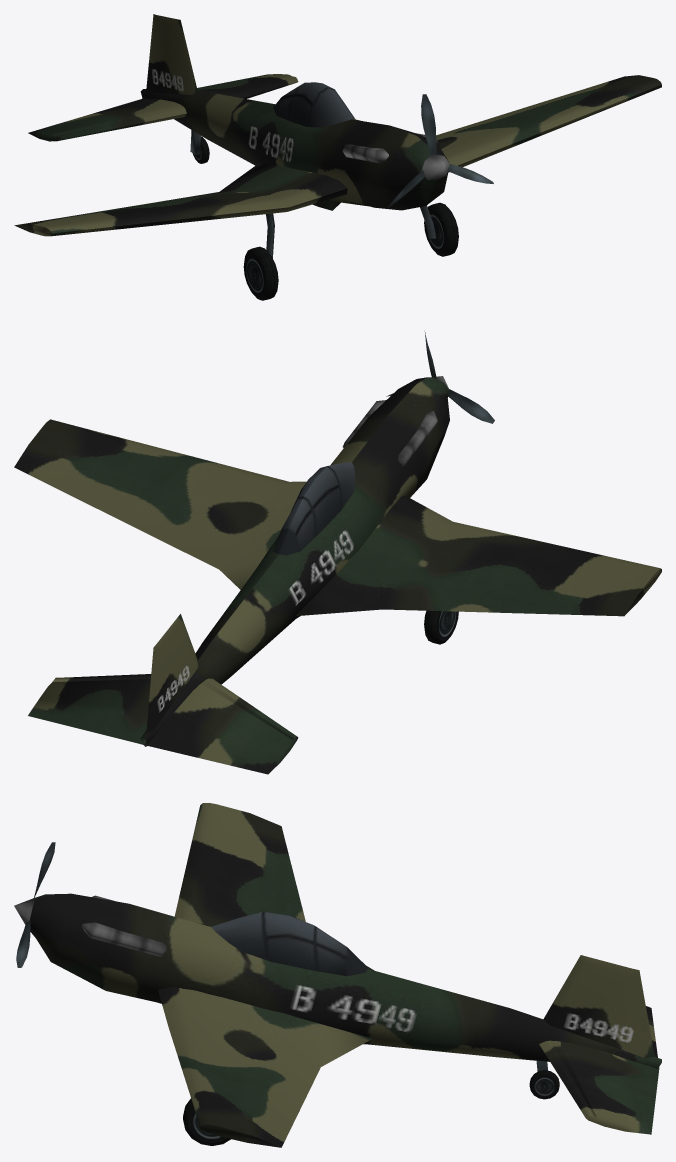
File: Fighter_b52.FBX
3 views of the same model, one above another, from view 1: azimuth 30°, elevation 25°; view 2: azimuth 150°, elevation 25°; view 3: azimuth 270°, elevation 25° (orthographic). The views are drawn at different scales.
Parts seen in each view (by area): view 1: b52; view 2: b52; view 3: b52.
Part boxes in pixels (x1,y1,x2,y2): b52: (14,14,661,300); b52: (14,331,661,774); b52: (14,803,661,1147).
Size of the model in its own units: 489 by 416 by 181.
Materials: 1 (1 with a texture image).
